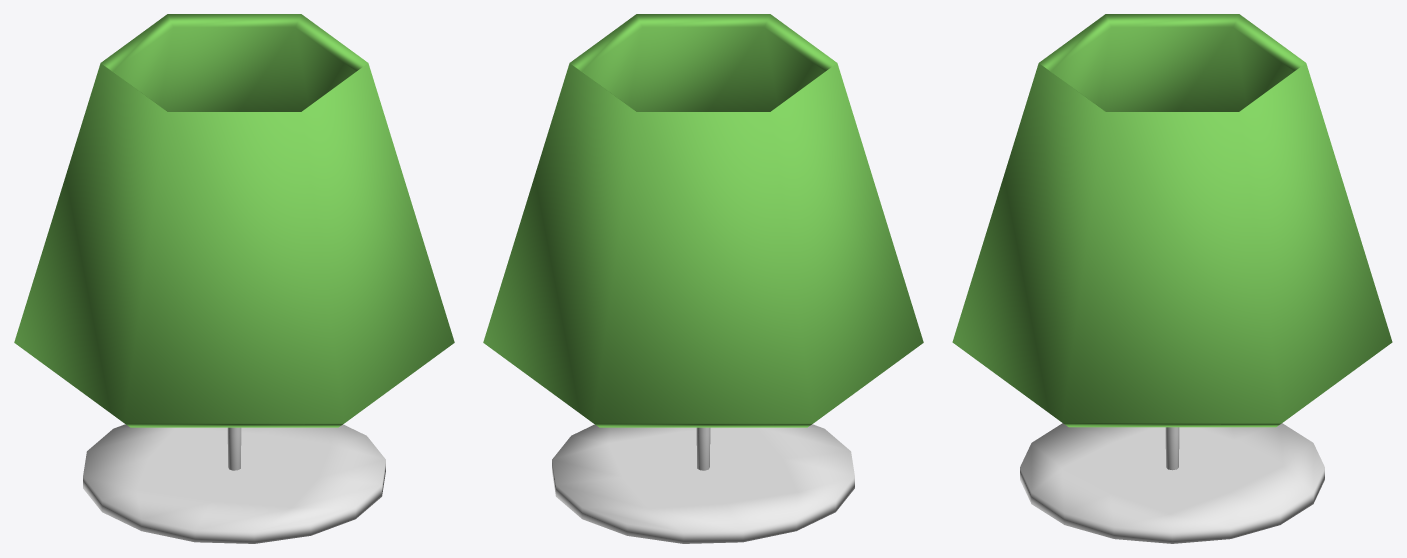
Rendered from present_lamp.fbx.
The picture shows the model from 3 angles, left to right: view 1: azimuth 30°, elevation 25°; view 2: azimuth 150°, elevation 25°; view 3: azimuth 270°, elevation 25°; orthographic projection.
Visible parts, largest first — view 1: curtain, base; view 2: curtain, base; view 3: curtain, base.
Part boxes in pixels (x1,y1,x2,y2): curtain: [14, 14, 454, 427]; base: [83, 424, 385, 543]; curtain: [483, 14, 923, 427]; base: [552, 424, 854, 543]; curtain: [952, 14, 1392, 427]; base: [1020, 423, 1324, 543].
Size of the model in its own units: 250 by 301 by 288.
